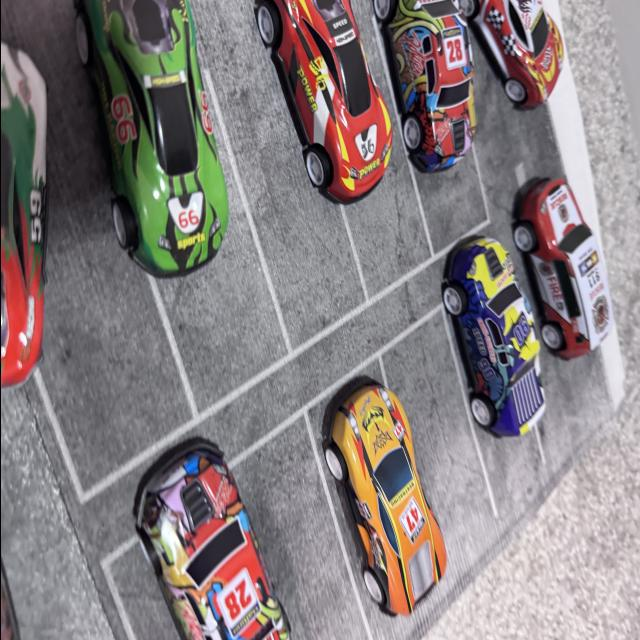Car: (61, 0, 219, 312), (0, 0, 86, 431), (124, 418, 273, 640), (333, 374, 452, 590), (274, 0, 370, 237), (417, 0, 580, 136), (527, 172, 614, 384), (454, 223, 538, 413), (381, 0, 458, 176)
